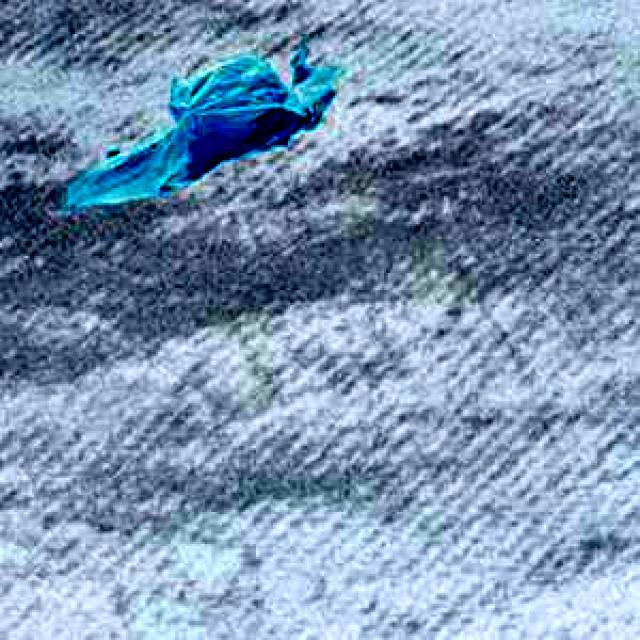Plastic_Bag: (58, 39, 340, 206)
